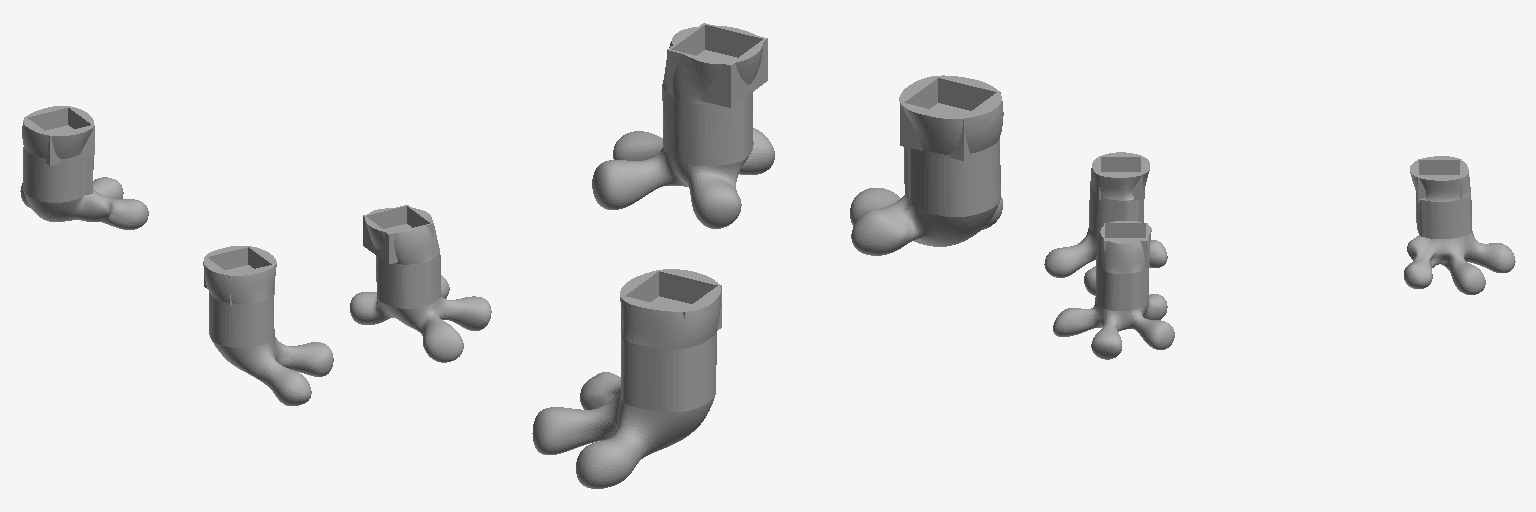
URDF robot description (FrogBot1_top-FrogBot1-x-9_bottom-FrogBot1-x-9):
<?xml version="1.0" ?>
<robot name="FrogBot1_top-FrogBot1-x-9_bottom-FrogBot1-x-9">

<material name="pla_5_percent_infill">
  <color rgba="0.700 0.700 0.700 1.000"/>
</material>

<link name="base_link">
  <inertial>
    <origin xyz="0 0 0" rpy="0 0 0"/>
    <mass value="1.4103143072721238"/>
    <inertia ixx="0.004671865419262023" iyy="0.01102984328633242" izz="0.011972094032648898" ixy="0.00015185420958179873" iyz="8.583160306759328e-05" ixz="-0.0012132770853355082"/>
  </inertial>
  <visual>
    <origin xyz="0 0 0" rpy="0 0 0"/>
    <geometry>
      <mesh filename="simple_meshes/base_link.stl" scale="0.001 0.001 0.001"/>
    </geometry>
    <material name="pla_5_percent_infill"/>
  </visual>
  <collision>
    <origin xyz="0 0 0" rpy="0 0 0"/>
    <geometry>
      <mesh filename="simple_meshes/base_link.stl" scale="0.001 0.001 0.001"/>
    </geometry>
  </collision>
</link>

<link name="body_1_0_1">
  <inertial>
    <origin xyz="-0.045735 -0.109621 -0.00462" rpy="0 0 0"/>
    <mass value="0.048668286482608916"/>
    <inertia ixx="6.887661500618036e-05" iyy="7.04577874364621e-05" izz="1.6242132023644267e-05" ixy="-4.716009065339937e-07" iyz="4.197512352394723e-06" ixz="8.826738522888514e-07"/>
  </inertial>
  <visual>
    <origin xyz="-0.045735 -0.109621 -0.00462" rpy="0 0 0"/>
    <geometry>
      <mesh filename="simple_meshes/body_1_0_1.stl" scale="0.001 0.001 0.001"/>
    </geometry>
    <material name="pla_5_percent_infill"/>
  </visual>
  <collision>
    <origin xyz="-0.045735 -0.109621 -0.00462" rpy="0 0 0"/>
    <geometry>
      <mesh filename="simple_meshes/body_1_0_1.stl" scale="0.001 0.001 0.001"/>
    </geometry>
  </collision>
</link>

<link name="body_1_1_1">
  <inertial>
    <origin xyz="0.086489 -0.109621 -0.018802" rpy="0 0 0"/>
    <mass value="0.09023407120088159"/>
    <inertia ixx="0.0001316774515884027" iyy="0.00013956713434980727" izz="4.8496490876420544e-05" ixy="6.474050119949226e-06" iyz="1.7480621280759642e-05" ixz="-2.6032231009540325e-05"/>
  </inertial>
  <visual>
    <origin xyz="0.086489 -0.109621 -0.018802" rpy="0 0 0"/>
    <geometry>
      <mesh filename="simple_meshes/body_1_1_1.stl" scale="0.001 0.001 0.001"/>
    </geometry>
    <material name="pla_5_percent_infill"/>
  </visual>
  <collision>
    <origin xyz="0.086489 -0.109621 -0.018802" rpy="0 0 0"/>
    <geometry>
      <mesh filename="simple_meshes/body_1_1_1.stl" scale="0.001 0.001 0.001"/>
    </geometry>
  </collision>
</link>

<link name="body_1_2_1">
  <inertial>
    <origin xyz="-0.040267 0.109621 -0.027764" rpy="0 0 0"/>
    <mass value="0.060337074263231386"/>
    <inertia ixx="0.00012370040882443483" iyy="0.00012167358474623308" izz="2.5170059210042608e-05" ixy="6.817579499822802e-07" iyz="-1.8037113073678937e-05" ixz="-1.8531244077202476e-07"/>
  </inertial>
  <visual>
    <origin xyz="-0.040267 0.109621 -0.027764" rpy="0 0 0"/>
    <geometry>
      <mesh filename="simple_meshes/body_1_2_1.stl" scale="0.001 0.001 0.001"/>
    </geometry>
    <material name="pla_5_percent_infill"/>
  </visual>
  <collision>
    <origin xyz="-0.040267 0.109621 -0.027764" rpy="0 0 0"/>
    <geometry>
      <mesh filename="simple_meshes/body_1_2_1.stl" scale="0.001 0.001 0.001"/>
    </geometry>
  </collision>
</link>

<link name="body_1_3_1">
  <inertial>
    <origin xyz="0.090407 0.109621 -0.022193" rpy="0 0 0"/>
    <mass value="0.08843891257572972"/>
    <inertia ixx="0.0001413551611192925" iyy="0.00015111699674743868" izz="5.070226831142225e-05" ixy="-7.8995368414127e-06" iyz="-2.157702250069266e-05" ixz="-3.1318415931436713e-05"/>
  </inertial>
  <visual>
    <origin xyz="0.090407 0.109621 -0.022193" rpy="0 0 0"/>
    <geometry>
      <mesh filename="simple_meshes/body_1_3_1.stl" scale="0.001 0.001 0.001"/>
    </geometry>
    <material name="pla_5_percent_infill"/>
  </visual>
  <collision>
    <origin xyz="0.090407 0.109621 -0.022193" rpy="0 0 0"/>
    <geometry>
      <mesh filename="simple_meshes/body_1_3_1.stl" scale="0.001 0.001 0.001"/>
    </geometry>
  </collision>
</link>

<link name="body_2_0_1">
  <inertial>
    <origin xyz="-0.049562 -0.159797 0.120064" rpy="0 0 0"/>
    <mass value="0.1238908610975304"/>
    <inertia ixx="0.000187905697823754" iyy="0.0002011997183433891" izz="0.0001437409351077077" ixy="-4.738678014313538e-06" iyz="-1.7145257468825434e-06" ixz="4.229083921211533e-05"/>
  </inertial>
  <visual>
    <origin xyz="-0.049562 -0.159797 0.120064" rpy="0 0 0"/>
    <geometry>
      <mesh filename="simple_meshes/body_2_0_1.stl" scale="0.001 0.001 0.001"/>
    </geometry>
    <material name="pla_5_percent_infill"/>
  </visual>
  <collision>
    <origin xyz="-0.049562 -0.159797 0.120064" rpy="0 0 0"/>
    <geometry>
      <mesh filename="simple_meshes/body_2_0_1.stl" scale="0.001 0.001 0.001"/>
    </geometry>
  </collision>
</link>

<link name="body_2_1_1">
  <inertial>
    <origin xyz="0.121182 -0.173952 0.120064" rpy="0 0 0"/>
    <mass value="0.1377099919851931"/>
    <inertia ixx="0.00020140669127355695" iyy="0.00021489094800557738" izz="0.00016042424234425767" ixy="-8.164014249785988e-07" iyz="2.438609023181805e-05" ixz="5.393201911764326e-05"/>
  </inertial>
  <visual>
    <origin xyz="0.121182 -0.173952 0.120064" rpy="0 0 0"/>
    <geometry>
      <mesh filename="simple_meshes/body_2_1_1.stl" scale="0.001 0.001 0.001"/>
    </geometry>
    <material name="pla_5_percent_infill"/>
  </visual>
  <collision>
    <origin xyz="0.121182 -0.173952 0.120064" rpy="0 0 0"/>
    <geometry>
      <mesh filename="simple_meshes/body_2_1_1.stl" scale="0.001 0.001 0.001"/>
    </geometry>
  </collision>
</link>

<link name="body_2_2_1">
  <inertial>
    <origin xyz="-0.04311 0.170506 0.120064" rpy="0 0 0"/>
    <mass value="0.12976234413611415"/>
    <inertia ixx="0.00019952976041925918" iyy="0.00019339136669536874" izz="0.00014883443463354663" ixy="1.3197516990387948e-06" iyz="-9.493466190841314e-06" ixz="3.08909521455473e-05"/>
  </inertial>
  <visual>
    <origin xyz="-0.04311 0.170506 0.120064" rpy="0 0 0"/>
    <geometry>
      <mesh filename="simple_meshes/body_2_2_1.stl" scale="0.001 0.001 0.001"/>
    </geometry>
    <material name="pla_5_percent_infill"/>
  </visual>
  <collision>
    <origin xyz="-0.04311 0.170506 0.120064" rpy="0 0 0"/>
    <geometry>
      <mesh filename="simple_meshes/body_2_2_1.stl" scale="0.001 0.001 0.001"/>
    </geometry>
  </collision>
</link>

<link name="body_2_3_1">
  <inertial>
    <origin xyz="0.129712 0.175384 0.120064" rpy="0 0 0"/>
    <mass value="0.1332848953881674"/>
    <inertia ixx="0.00020992661733601828" iyy="0.00020852034400216726" izz="0.0001465374956686489" ixy="7.162724412855016e-06" iyz="-3.056641905423239e-05" ixz="5.084116385044822e-05"/>
  </inertial>
  <visual>
    <origin xyz="0.129712 0.175384 0.120064" rpy="0 0 0"/>
    <geometry>
      <mesh filename="simple_meshes/body_2_3_1.stl" scale="0.001 0.001 0.001"/>
    </geometry>
    <material name="pla_5_percent_infill"/>
  </visual>
  <collision>
    <origin xyz="0.129712 0.175384 0.120064" rpy="0 0 0"/>
    <geometry>
      <mesh filename="simple_meshes/body_2_3_1.stl" scale="0.001 0.001 0.001"/>
    </geometry>
  </collision>
</link>

<joint name="joint_1_0" type="revolute">
  <origin xyz="0.045735 0.109621 0.00462" rpy="0 0 0"/>
  <parent link="base_link"/>
  <child link="body_1_0_1"/>
  <axis xyz="1.0 0.0 0.0"/>
  <limit upper="1.2" lower="-1.2" effort="3.8" velocity="5.4"/>
</joint>
<transmission name="joint_1_0_tran">
  <type>transmission_interface/SimpleTransmission</type>
  <joint name="joint_1_0">
    <hardwareInterface>PositionJointInterface</hardwareInterface>
  </joint>
  <actuator name="joint_1_0_actr">
    <hardwareInterface>PositionJointInterface</hardwareInterface>
    <mechanicalReduction>1</mechanicalReduction>
  </actuator>
</transmission>

<joint name="joint_1_1" type="revolute">
  <origin xyz="-0.086489 0.109621 0.018802" rpy="0 0 0"/>
  <parent link="base_link"/>
  <child link="body_1_1_1"/>
  <axis xyz="1.0 0.0 0.0"/>
  <limit upper="1.2" lower="-1.2" effort="3.8" velocity="5.4"/>
</joint>
<transmission name="joint_1_1_tran">
  <type>transmission_interface/SimpleTransmission</type>
  <joint name="joint_1_1">
    <hardwareInterface>PositionJointInterface</hardwareInterface>
  </joint>
  <actuator name="joint_1_1_actr">
    <hardwareInterface>PositionJointInterface</hardwareInterface>
    <mechanicalReduction>1</mechanicalReduction>
  </actuator>
</transmission>

<joint name="joint_1_2" type="revolute">
  <origin xyz="0.040267 -0.109621 0.027764" rpy="0 0 0"/>
  <parent link="base_link"/>
  <child link="body_1_2_1"/>
  <axis xyz="1.0 0.0 0.0"/>
  <limit upper="1.2" lower="-1.2" effort="3.8" velocity="5.4"/>
</joint>
<transmission name="joint_1_2_tran">
  <type>transmission_interface/SimpleTransmission</type>
  <joint name="joint_1_2">
    <hardwareInterface>PositionJointInterface</hardwareInterface>
  </joint>
  <actuator name="joint_1_2_actr">
    <hardwareInterface>PositionJointInterface</hardwareInterface>
    <mechanicalReduction>1</mechanicalReduction>
  </actuator>
</transmission>

<joint name="joint_1_3" type="revolute">
  <origin xyz="-0.090407 -0.109621 0.022193" rpy="0 0 0"/>
  <parent link="base_link"/>
  <child link="body_1_3_1"/>
  <axis xyz="1.0 0.0 0.0"/>
  <limit upper="1.2" lower="-1.2" effort="3.8" velocity="5.4"/>
</joint>
<transmission name="joint_1_3_tran">
  <type>transmission_interface/SimpleTransmission</type>
  <joint name="joint_1_3">
    <hardwareInterface>PositionJointInterface</hardwareInterface>
  </joint>
  <actuator name="joint_1_3_actr">
    <hardwareInterface>PositionJointInterface</hardwareInterface>
    <mechanicalReduction>1</mechanicalReduction>
  </actuator>
</transmission>

<joint name="joint_2_0" type="revolute">
  <origin xyz="0.003827 0.050176 -0.124684" rpy="0 0 0"/>
  <parent link="body_1_0_1"/>
  <child link="body_2_0_1"/>
  <axis xyz="1.0 0.0 0.0"/>
  <limit upper="1.2" lower="-1.2" effort="3.8" velocity="5.4"/>
</joint>
<transmission name="joint_2_0_tran">
  <type>transmission_interface/SimpleTransmission</type>
  <joint name="joint_2_0">
    <hardwareInterface>PositionJointInterface</hardwareInterface>
  </joint>
  <actuator name="joint_2_0_actr">
    <hardwareInterface>PositionJointInterface</hardwareInterface>
    <mechanicalReduction>1</mechanicalReduction>
  </actuator>
</transmission>

<joint name="joint_2_1" type="revolute">
  <origin xyz="-0.034693 0.064331 -0.138866" rpy="0 0 0"/>
  <parent link="body_1_1_1"/>
  <child link="body_2_1_1"/>
  <axis xyz="1.0 0.0 0.0"/>
  <limit upper="1.2" lower="-1.2" effort="3.8" velocity="5.4"/>
</joint>
<transmission name="joint_2_1_tran">
  <type>transmission_interface/SimpleTransmission</type>
  <joint name="joint_2_1">
    <hardwareInterface>PositionJointInterface</hardwareInterface>
  </joint>
  <actuator name="joint_2_1_actr">
    <hardwareInterface>PositionJointInterface</hardwareInterface>
    <mechanicalReduction>1</mechanicalReduction>
  </actuator>
</transmission>

<joint name="joint_2_2" type="revolute">
  <origin xyz="0.002843 -0.060885 -0.147828" rpy="0 0 0"/>
  <parent link="body_1_2_1"/>
  <child link="body_2_2_1"/>
  <axis xyz="1.0 0.0 0.0"/>
  <limit upper="1.2" lower="-1.2" effort="3.8" velocity="5.4"/>
</joint>
<transmission name="joint_2_2_tran">
  <type>transmission_interface/SimpleTransmission</type>
  <joint name="joint_2_2">
    <hardwareInterface>PositionJointInterface</hardwareInterface>
  </joint>
  <actuator name="joint_2_2_actr">
    <hardwareInterface>PositionJointInterface</hardwareInterface>
    <mechanicalReduction>1</mechanicalReduction>
  </actuator>
</transmission>

<joint name="joint_2_3" type="revolute">
  <origin xyz="-0.039305 -0.065763 -0.142257" rpy="0 0 0"/>
  <parent link="body_1_3_1"/>
  <child link="body_2_3_1"/>
  <axis xyz="1.0 0.0 0.0"/>
  <limit upper="1.2" lower="-1.2" effort="3.8" velocity="5.4"/>
</joint>
<transmission name="joint_2_3_tran">
  <type>transmission_interface/SimpleTransmission</type>
  <joint name="joint_2_3">
    <hardwareInterface>PositionJointInterface</hardwareInterface>
  </joint>
  <actuator name="joint_2_3_actr">
    <hardwareInterface>PositionJointInterface</hardwareInterface>
    <mechanicalReduction>1</mechanicalReduction>
  </actuator>
</transmission>

</robot>

--- Facts derived from the render (not from the file) ---
3 views of the same robot in one strip: view 1: azimuth 30°, elevation 25°; view 2: azimuth 150°, elevation 25°; view 3: azimuth 270°, elevation 25° (orthographic).
Model FrogBot1_top-FrogBot1-x-9_bottom-FrogBot1-x-9 with 9 links and 8 joints (8 revolute), rooted at base_link, posed every joint at zero.
Visible links, largest first — view 1: body_2_2_1, body_2_3_1, body_2_1_1; view 2: body_2_1_1, body_2_2_1, body_2_3_1; view 3: body_2_1_1, body_2_2_1, body_2_3_1.
Link boxes in pixels (left/top/right/bottom): body_2_2_1: left=350, top=205, right=491, bottom=362; body_2_3_1: left=203, top=246, right=333, bottom=405; body_2_1_1: left=20, top=106, right=148, bottom=229; body_2_1_1: left=532, top=269, right=721, bottom=488; body_2_2_1: left=592, top=23, right=774, bottom=228; body_2_3_1: left=850, top=75, right=1003, bottom=255; body_2_1_1: left=1404, top=156, right=1515, bottom=294; body_2_2_1: left=1053, top=221, right=1174, bottom=359; body_2_3_1: left=1044, top=152, right=1167, bottom=295.
Size in the robot's own frame: 0.2927 by 0.5165 by 0.1252 metres.
3 mesh visuals loaded from 9 distinct referenced files (3 binary STL); not drawn: 6 (reference not matched to a file when rendering).